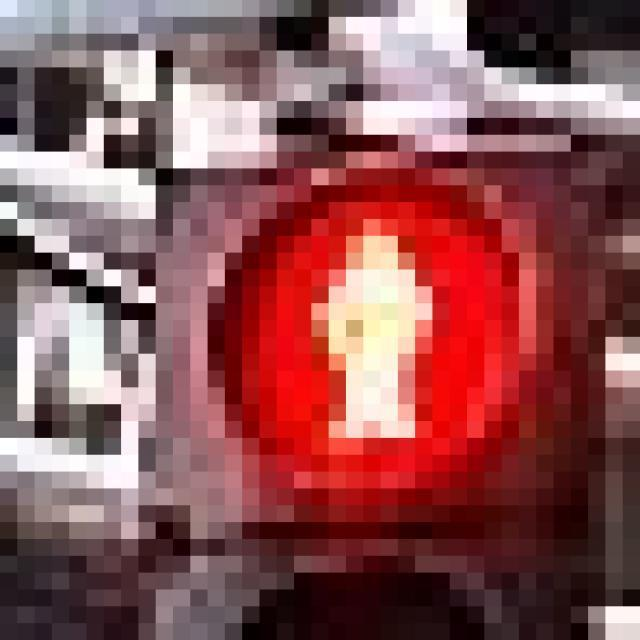red-crossing: (225, 168, 484, 472)
